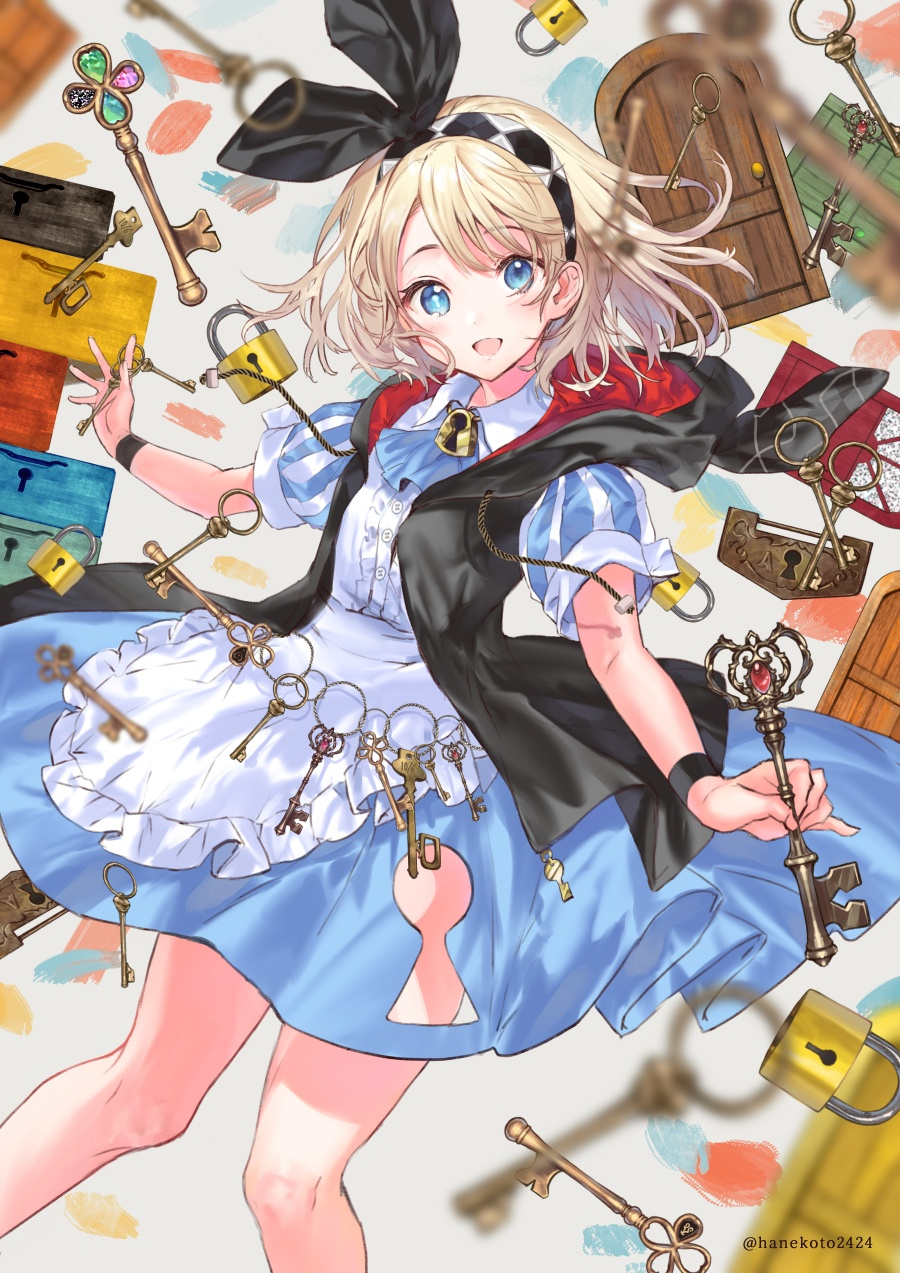纸片人正脸: (321, 122, 609, 389), (610, 43, 773, 241)
